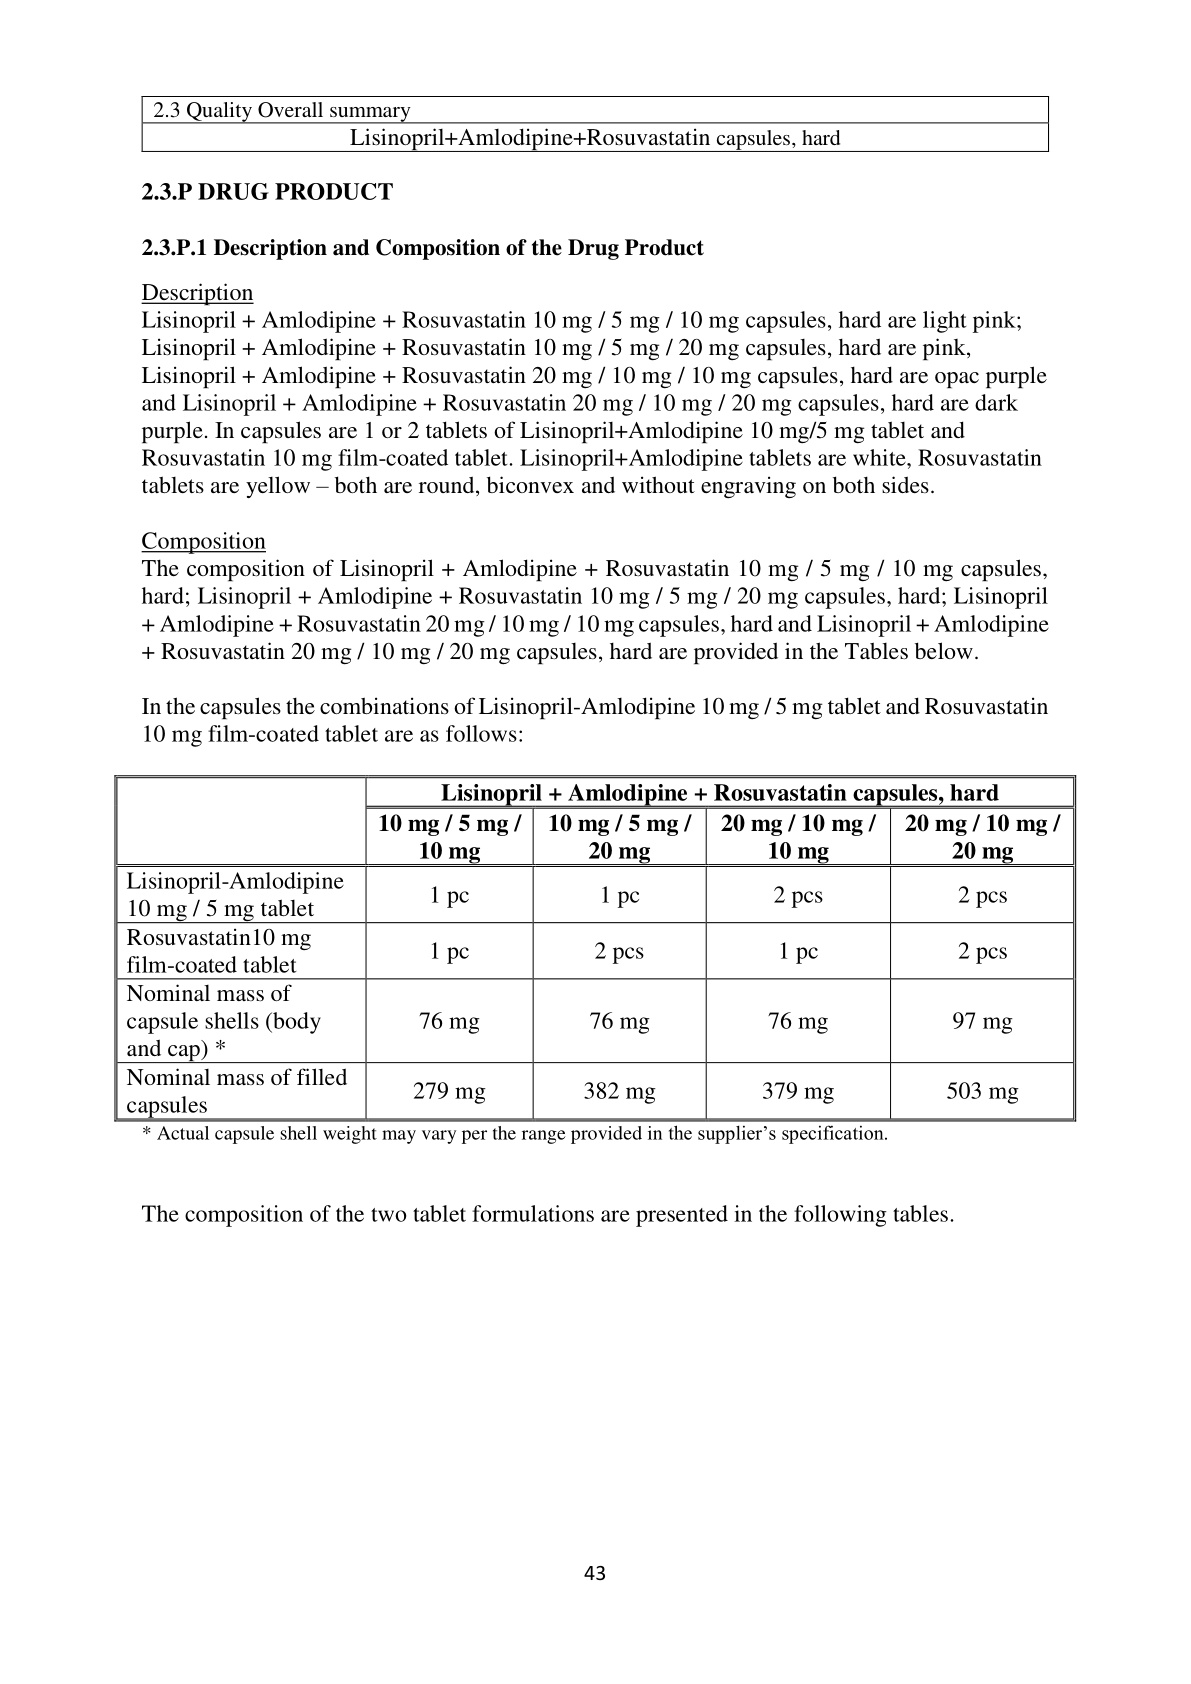full_lined: (140, 95, 1051, 153)
merged_cells: (113, 774, 1078, 1122)
